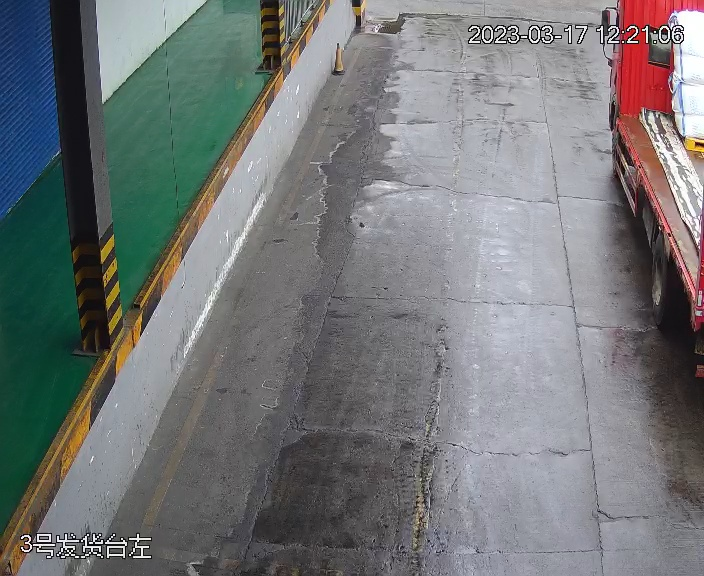truck: (594, 1, 704, 385)
